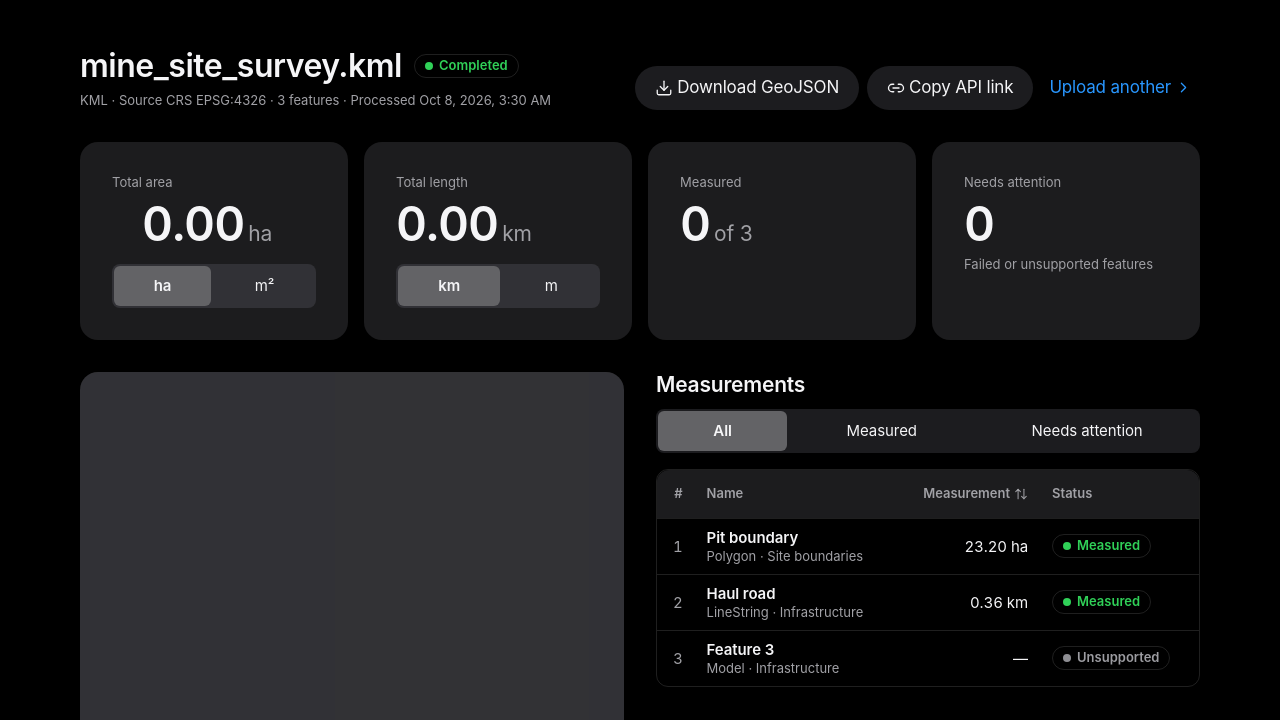
Scenario: results workspace › filters, sorts and switches units
Click the radio button labelled "Needs attention": point(1087, 431) [974,409,1200,453]
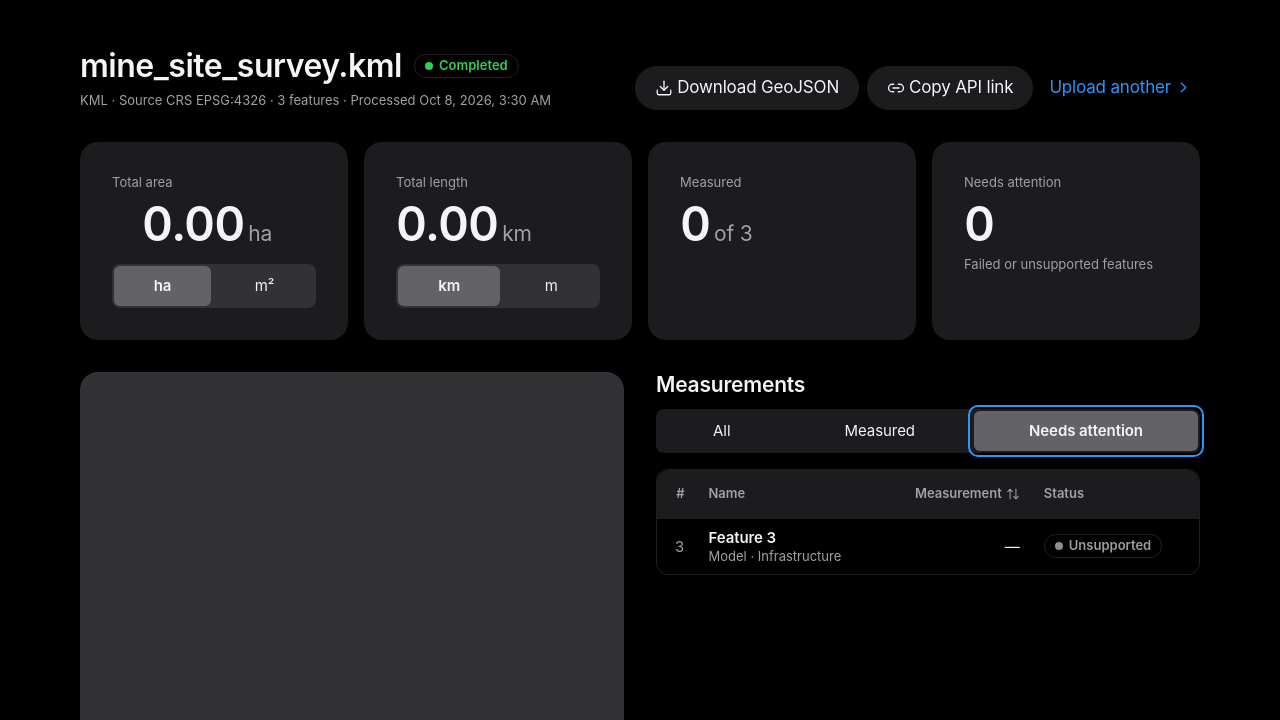
Expected: the number of rows is 2, [657,470,1199,518]; [657,518,1199,574]
Expected: the button "Feature 3" is shown, [708,527,776,548]
Click the radio button labelled "All": point(722, 431) [656,409,788,453]
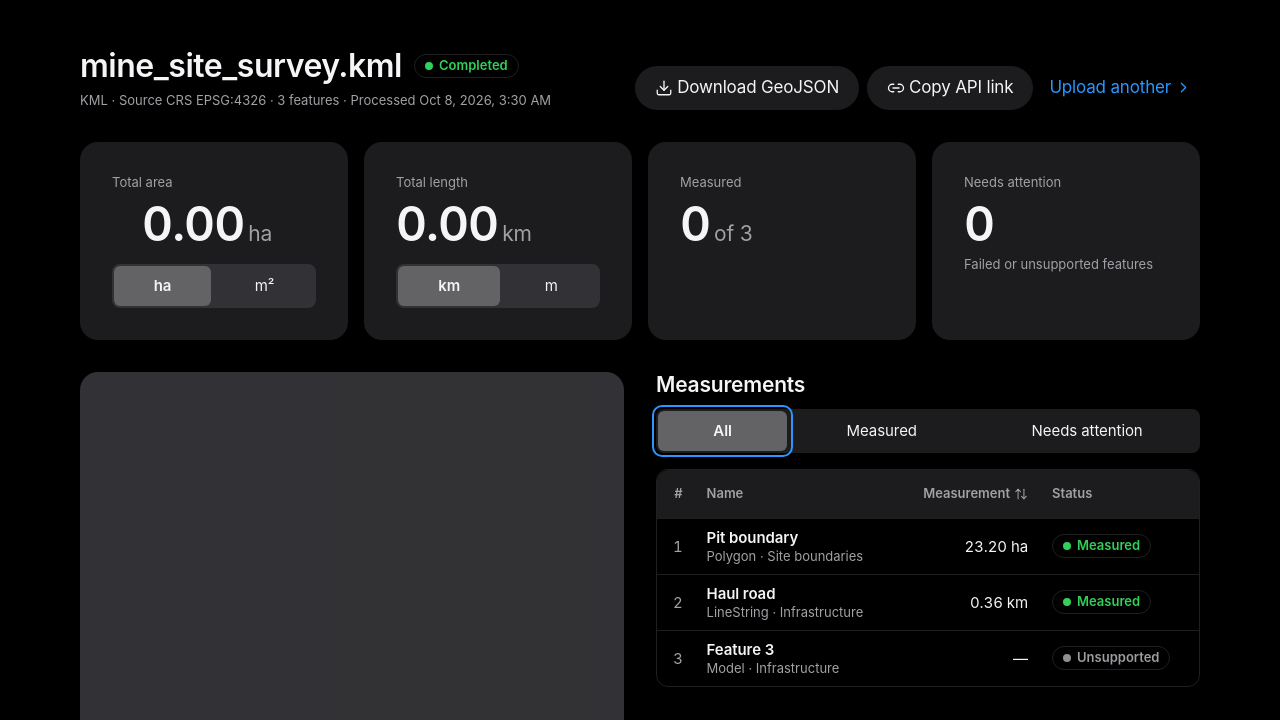
Click the button "Measurement": point(976, 494) [915,472,1036,516]
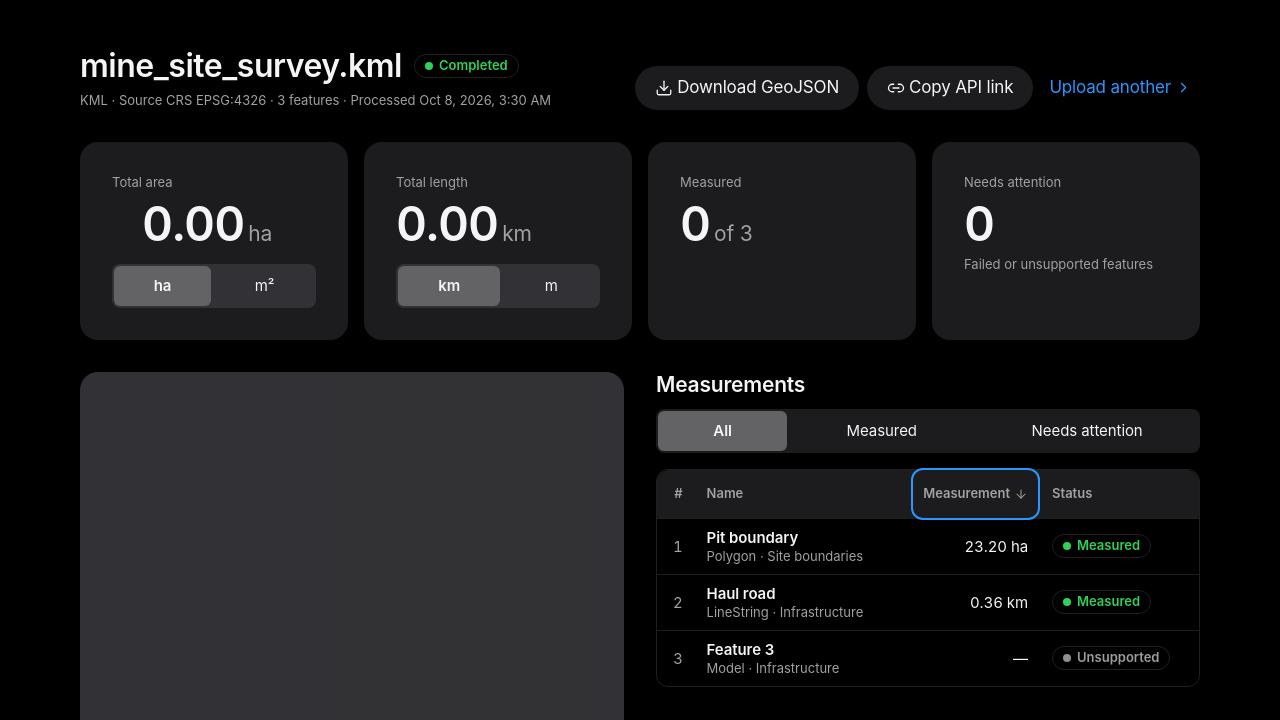
Expected: the cell "Feature 3 Model · Infrastructure" is shown, [694,630,896,686]
Expected: the cell "Pit boundary Polygon · Site boundaries" is shown, [694,518,896,574]
Click the radio button labelled "m²": point(264, 286) [213,264,316,308]
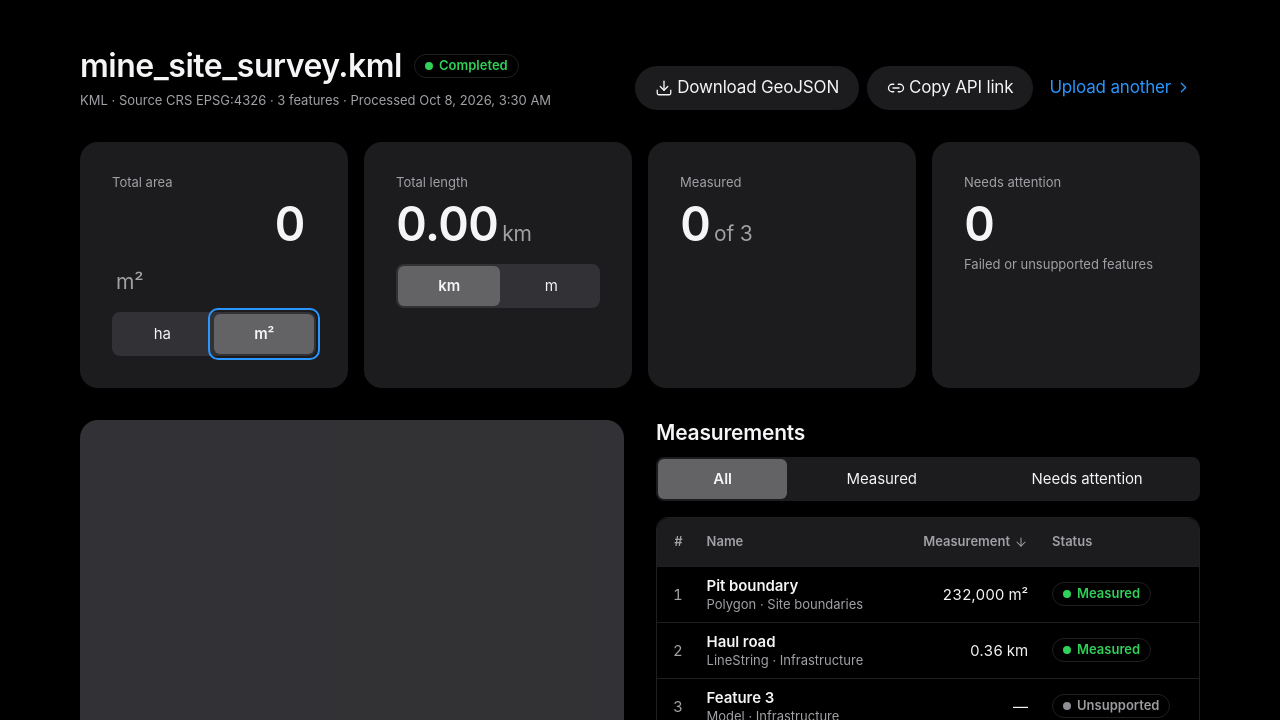
Expected: the text "232,000 m²" is shown, [896,566,1040,622]
